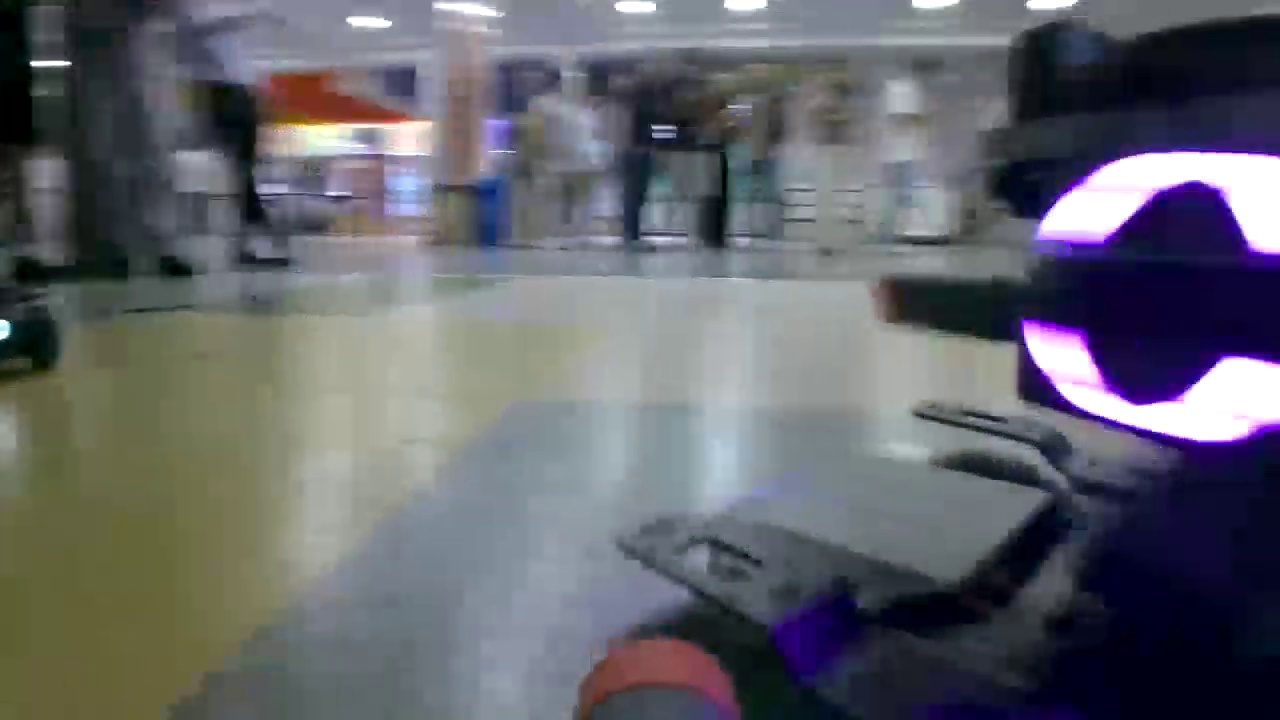robot: (660, 60, 1280, 710), (1, 242, 47, 385)
